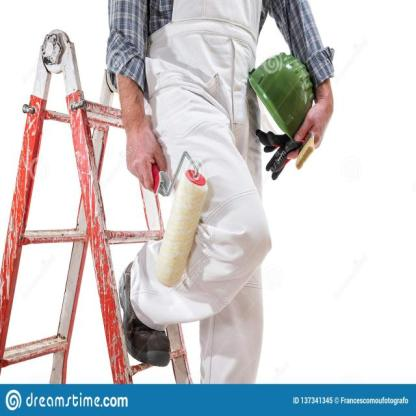bota: (117, 257, 176, 373)
